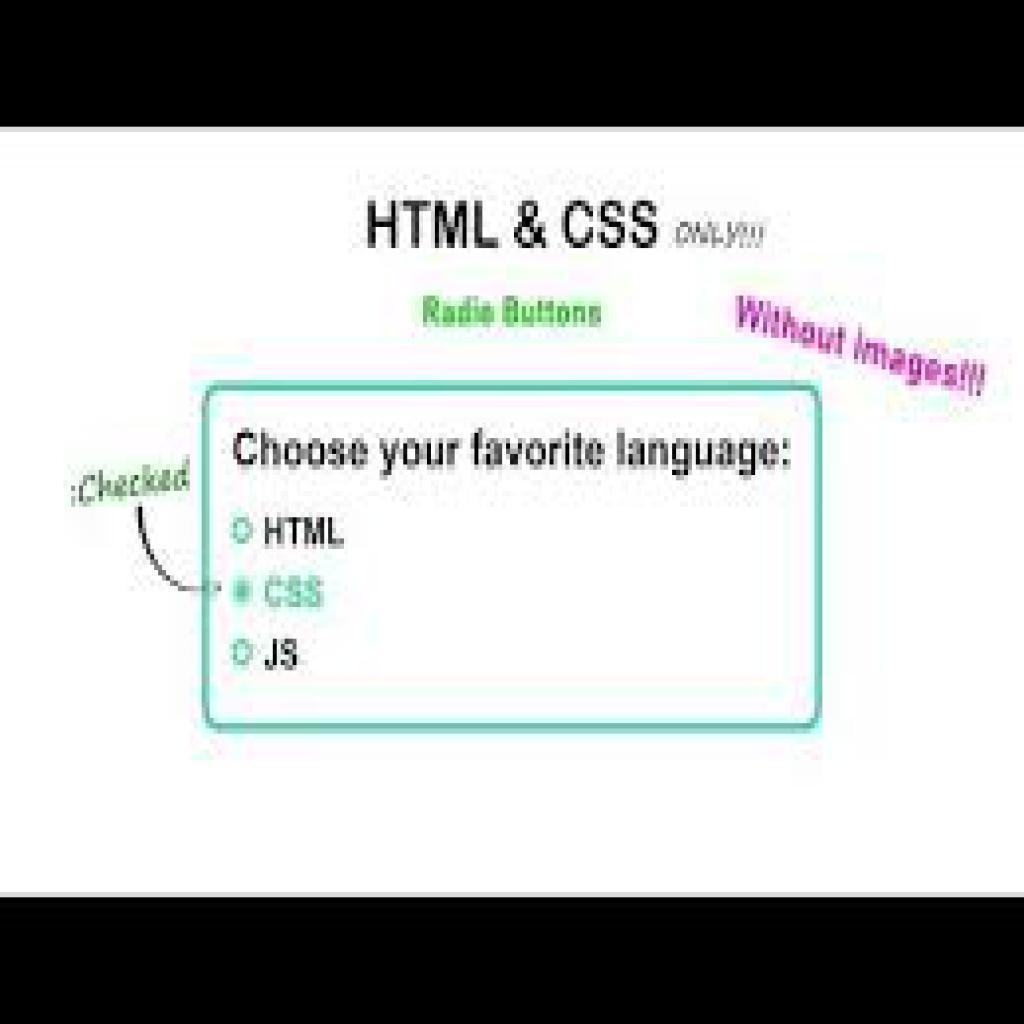label: (264, 507, 345, 552), (263, 570, 332, 616), (265, 636, 301, 680)
radio: (229, 635, 262, 670), (229, 573, 259, 610), (229, 513, 257, 551)
